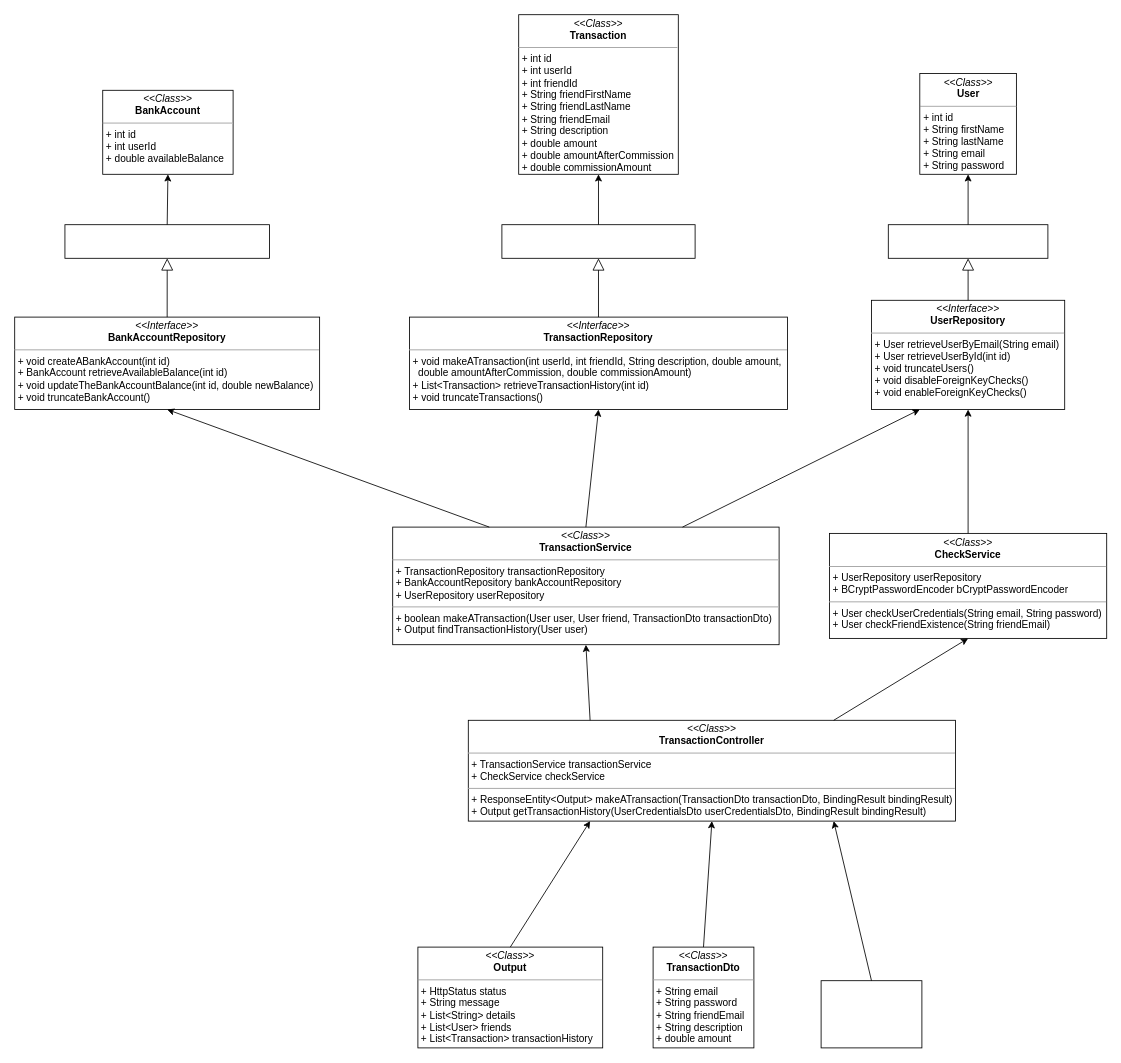
Some shapes in this 1121 by 1063 pixel diagram are drawn without their labels. Each missing label, with the centre of its shape:
"<<Class>> UserCredentialsDto + String email + String password" goes at (x=871, y=1014).
"<<Interface>> CrudRepository<BankAccount, Integer>" goes at (x=166, y=241).
"<<Interface>> CrudRepository<Transaction, Integer>" goes at (x=598, y=241).
"<<Interface>> CrudRepository<User, Integer>" goes at (x=967, y=241).
